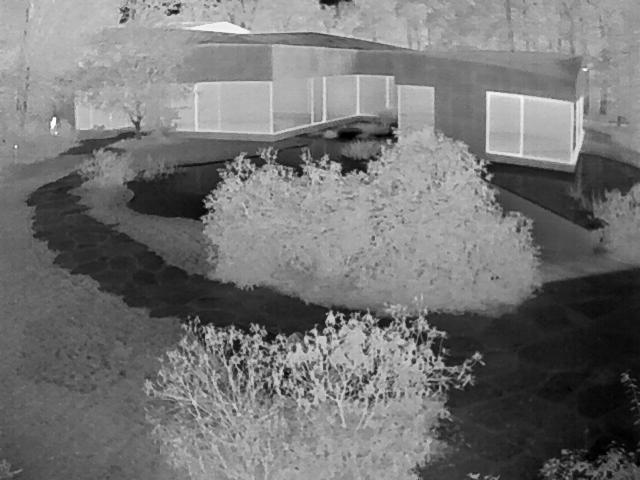person: (49, 115, 60, 135)
